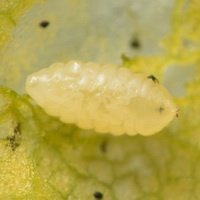insect: (26, 61, 176, 134)
